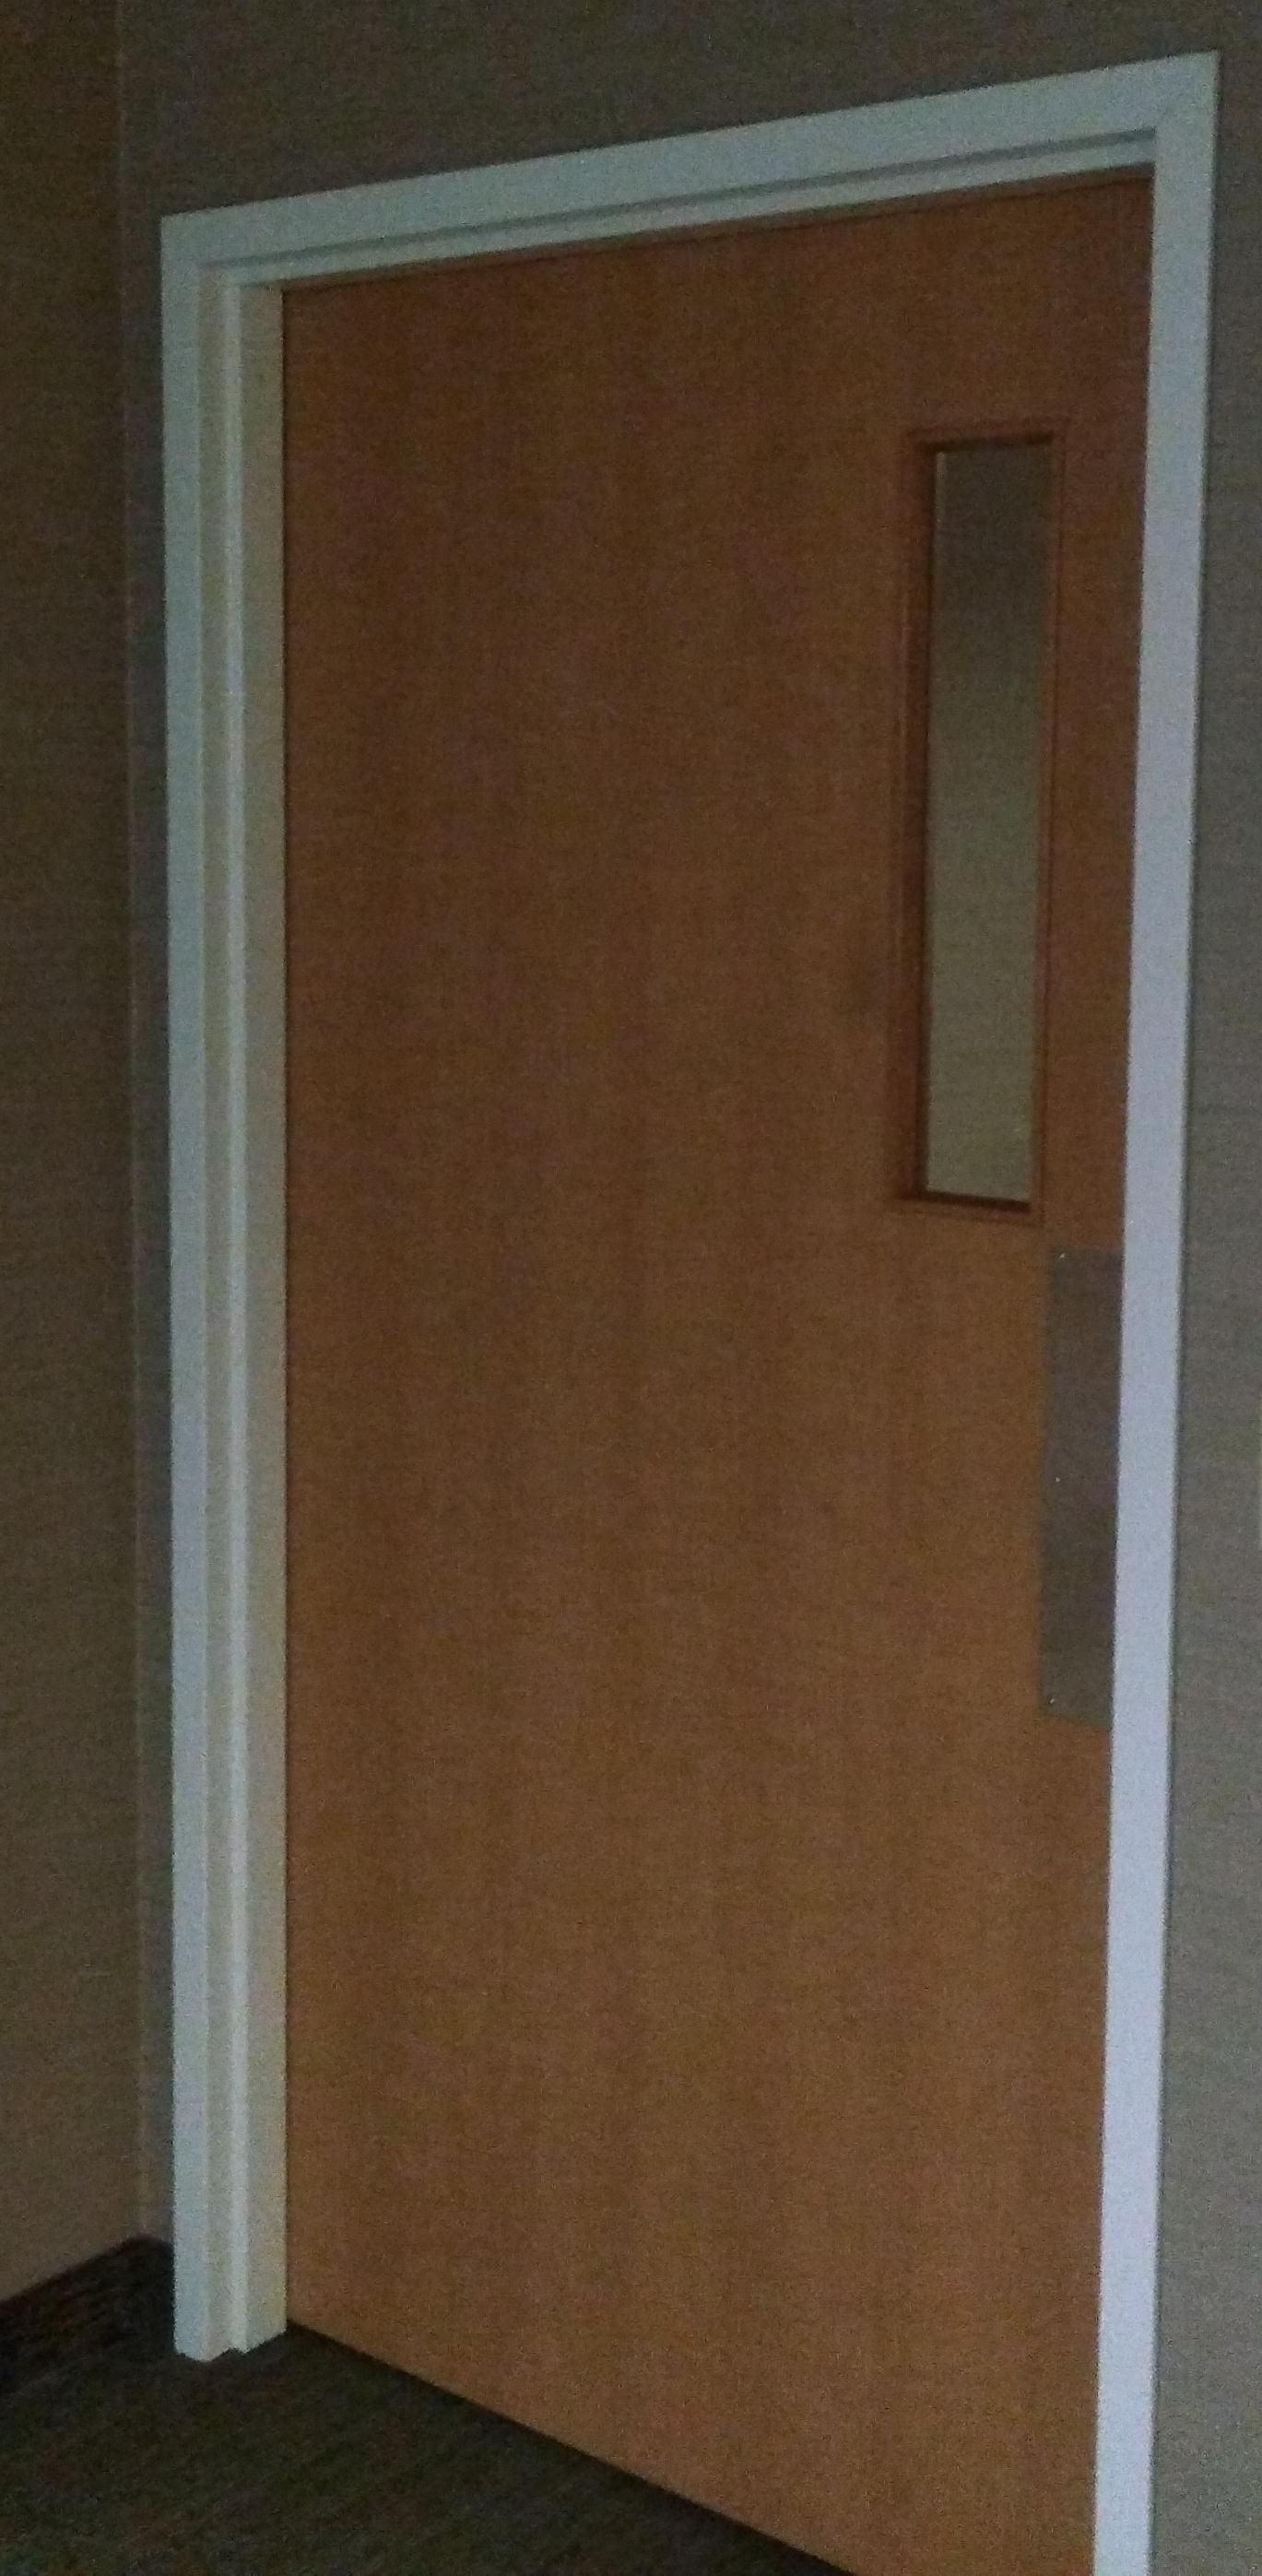door: (168, 48, 1219, 2568)
